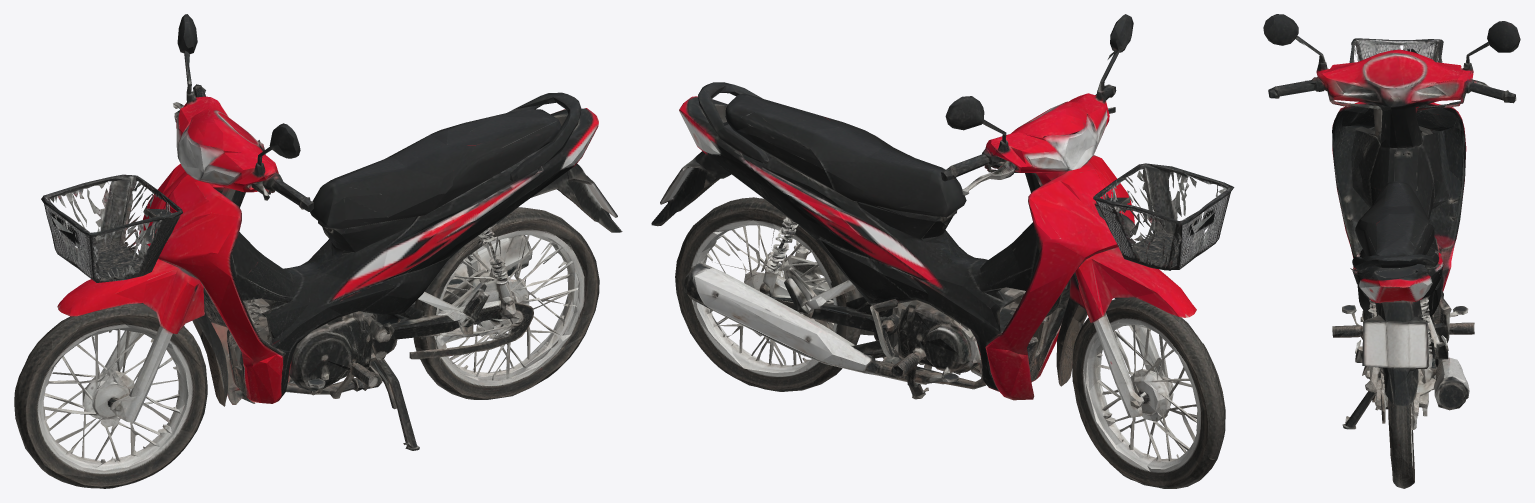
File: remeshed-moto.glb
The picture shows the model from 3 angles, left to right: view 1: azimuth 30°, elevation 25°; view 2: azimuth 150°, elevation 25°; view 3: azimuth 270°, elevation 25°; orthographic projection. The views are drawn at different scales.
Visible parts, largest first — view 1: output_unwrapped; view 2: output_unwrapped; view 3: output_unwrapped.
Boxes of the visible parts, bbox=[...] form: output_unwrapped: bbox=[14, 14, 622, 488]; output_unwrapped: bbox=[651, 14, 1234, 488]; output_unwrapped: bbox=[1263, 14, 1520, 488].
Bounding box in the file's own units: 1.9 × 1.24 × 0.8278.
Materials: 1 (1 with a texture image).
